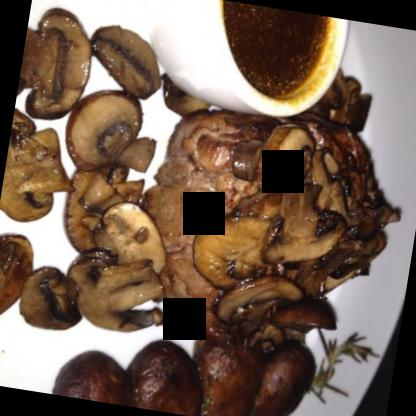mushroom: (0, 106, 83, 227), (56, 78, 148, 184), (14, 7, 102, 117), (56, 252, 163, 338), (188, 205, 289, 296), (119, 335, 212, 415), (190, 331, 269, 415), (43, 338, 134, 404), (249, 340, 316, 415)
